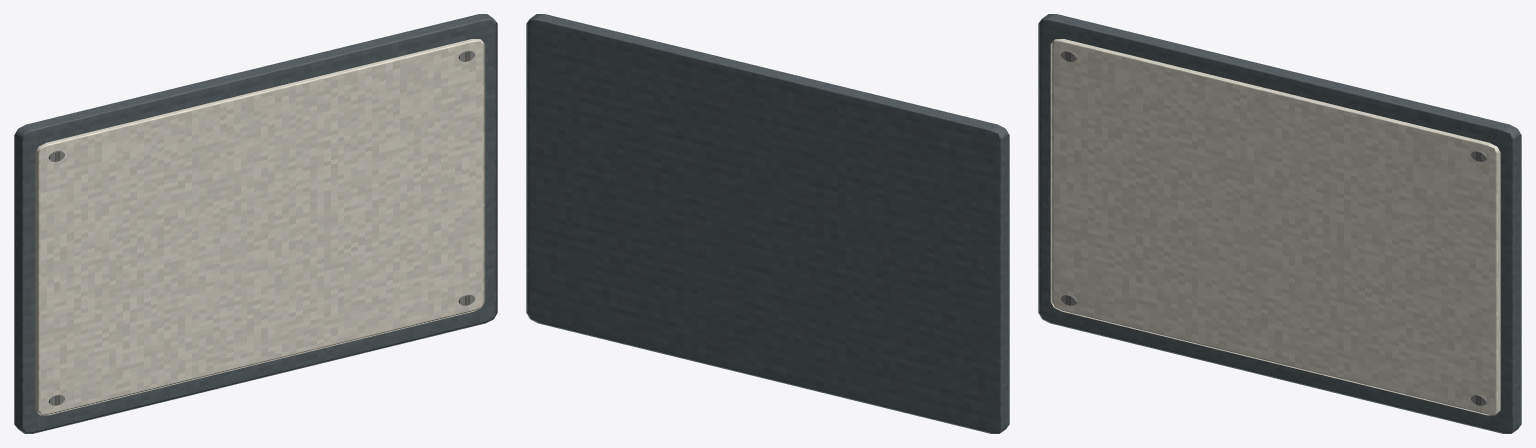
The model's file is projector-screen.glb.
3 renders of one model, left to right at view 1: azimuth 30°, elevation 25°; view 2: azimuth 150°, elevation 25°; view 3: azimuth 330°, elevation 25°, orthographic.
Visible parts, largest first — view 1: face, back; view 2: back; view 3: face, back.
Part boxes in pixels (box(x1,y1,x2,y2)): face: box(35, 39, 485, 415); back: box(14, 14, 497, 433); back: box(526, 14, 1009, 433); face: box(1050, 39, 1500, 415); back: box(1038, 14, 1521, 433).
Bounding box in the file's own units: 1.8 × 1.1 × 0.064.
Materials: 3 (3 with a texture image).
